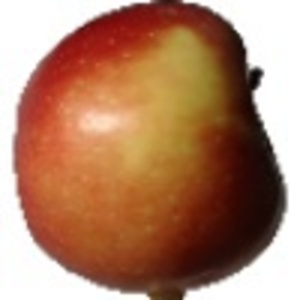maçã braeburn: (9, 2, 288, 291)
